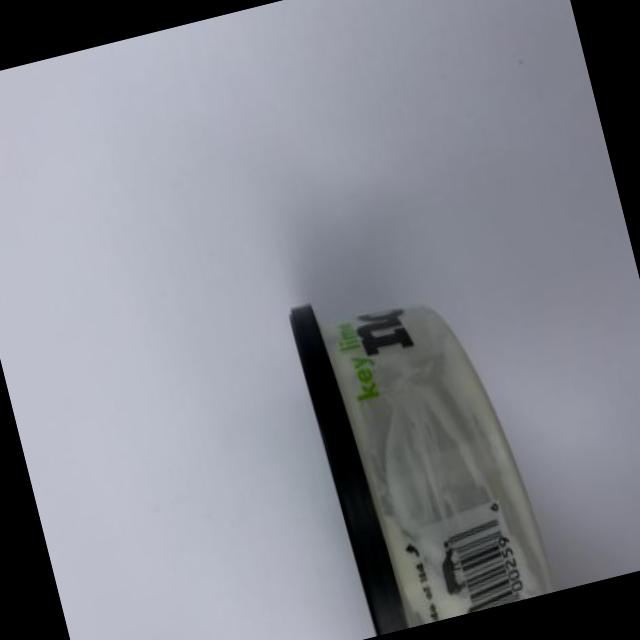plastic: (274, 257, 543, 640)
